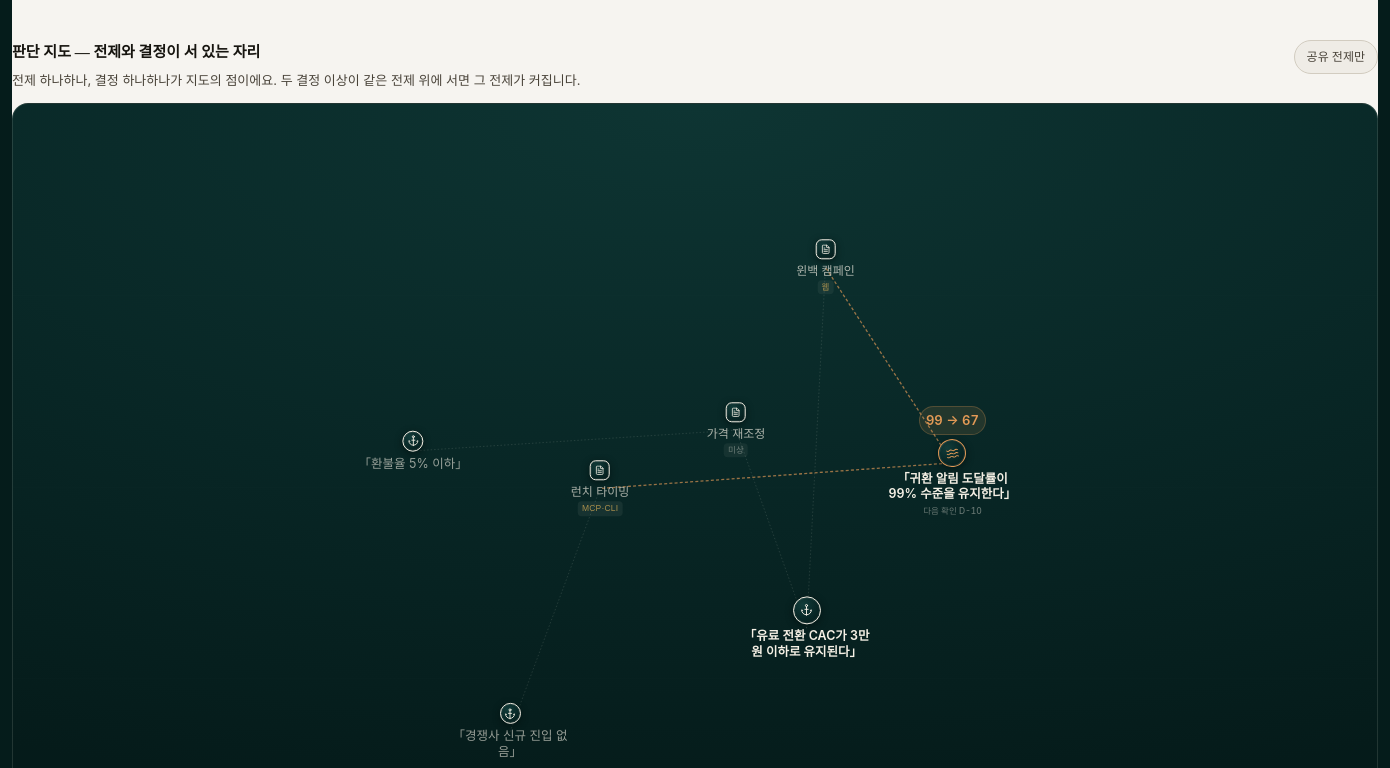
it: JudgmentGraph — focus mode and the shared-only filter › "공유 전제만" filter drops degree-1 leaves but keeps the hubs
What coordinates should you click on to do the following:
click the button "공유 전제만"
I would click on:
 (1336, 57)
Its box is [1294, 40, 1378, 74].
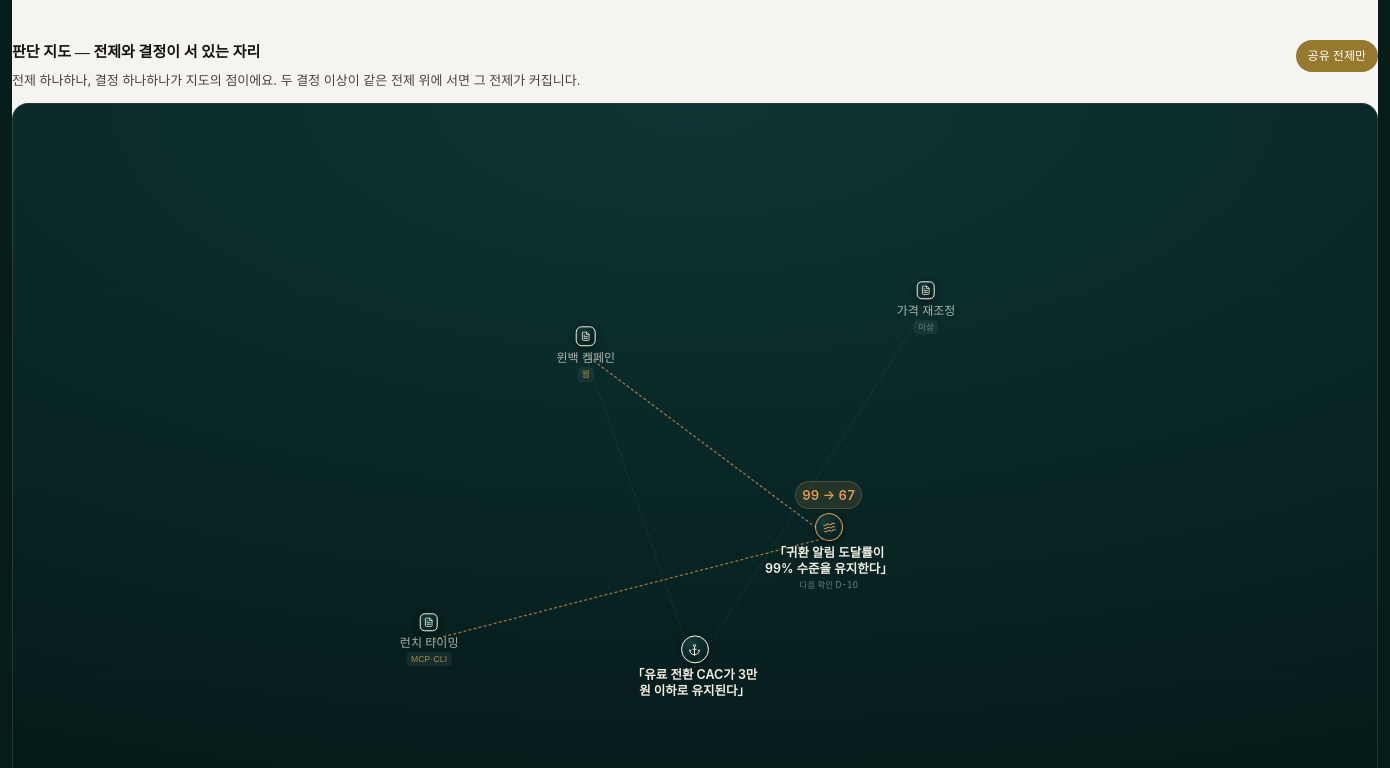
Check: the text "귀환 알림 도달률이 99% 수준을 유지한다" is shown, box [765, 545, 884, 576]
Check: the text "경쟁사 신규 진입 없음" is gone
